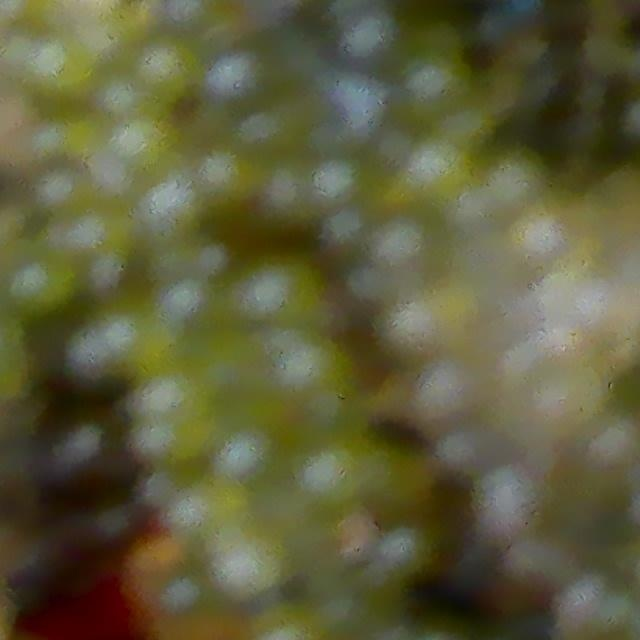SeaGrape: (212, 519, 287, 603), (101, 306, 176, 375), (168, 477, 250, 539), (29, 32, 97, 106), (129, 378, 210, 435), (135, 37, 196, 111), (110, 123, 177, 181), (140, 426, 210, 468)
